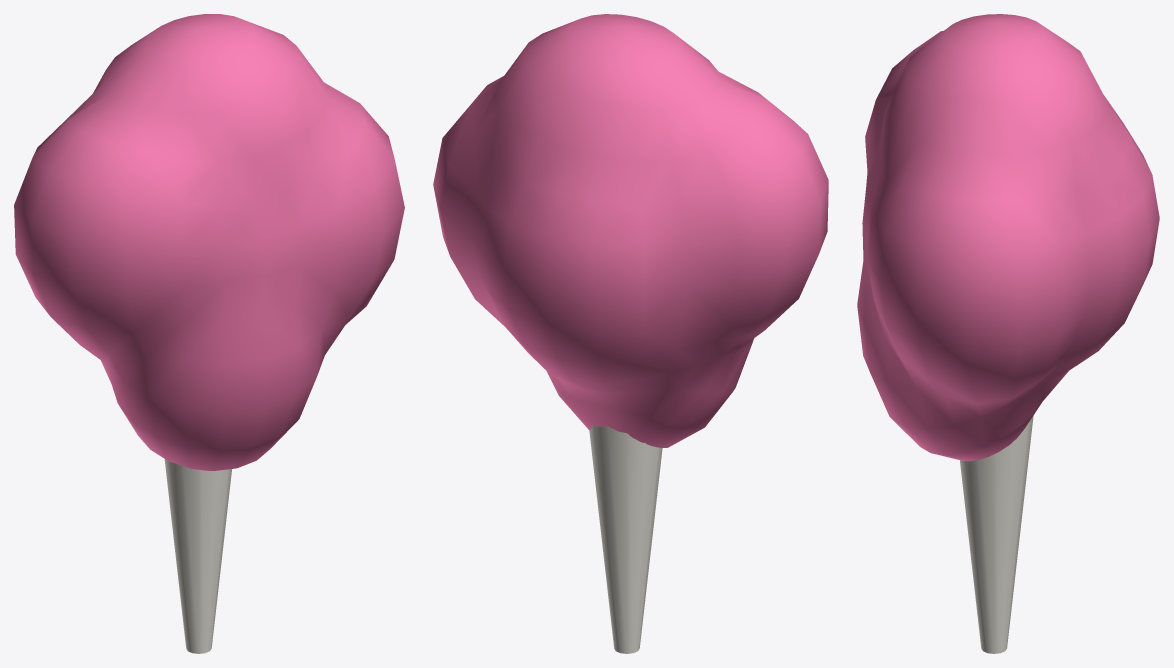
File: CottonCandy.fbx
3 views of the same model, side by side, from view 1: azimuth 30°, elevation 25°; view 2: azimuth 150°, elevation 25°; view 3: azimuth 270°, elevation 25° (orthographic).
Parts seen in each view (by area): view 1: CottonCandy_Body; view 2: CottonCandy_Body; view 3: CottonCandy_Body.
Part boxes in pixels (x1,y1,x2,y2): CottonCandy_Body: (14,14,404,653); CottonCandy_Body: (433,14,828,653); CottonCandy_Body: (857,14,1159,653).
Size of what is drawn, in the model's own units: 0.0895 by 0.1447 by 0.0633.
